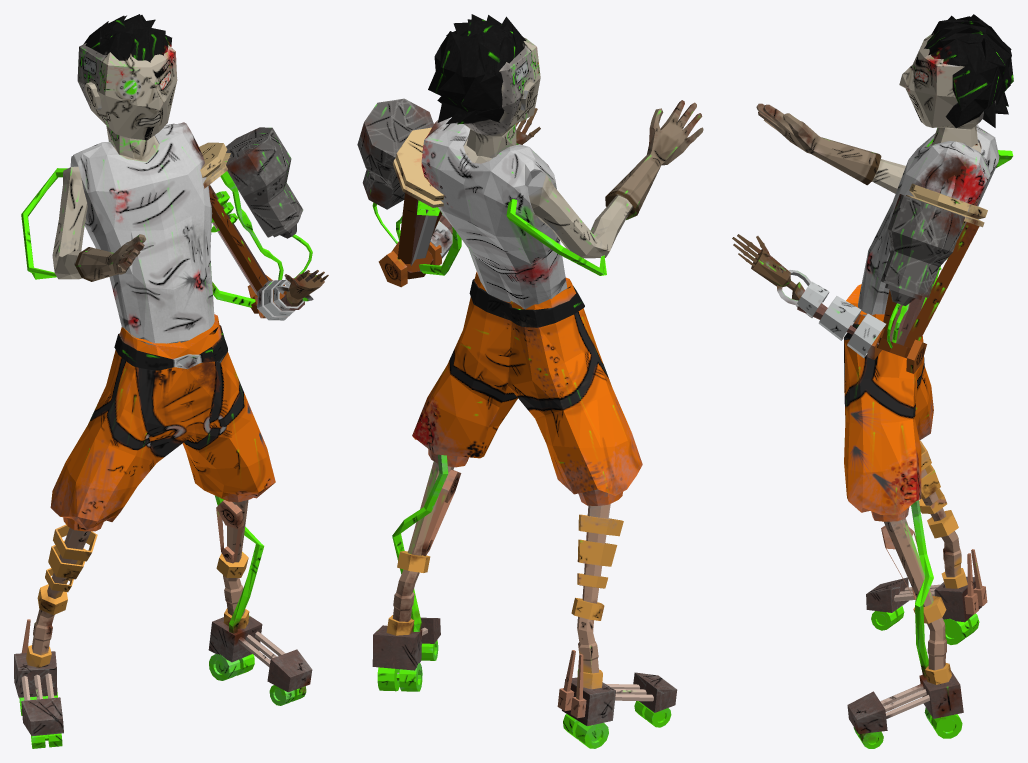
Rendered from CyborgFINALAnimation_000005.obj.
The picture shows the model from 3 angles, left to right: view 1: azimuth 30°, elevation 25°; view 2: azimuth 150°, elevation 25°; view 3: azimuth 270°, elevation 25°; orthographic projection. The views are drawn at different scales.
Visible parts, largest first — view 1: CyborgMesh_Cube.002; view 2: CyborgMesh_Cube.002; view 3: CyborgMesh_Cube.002.
Boxes of the visible parts, x1,y1,x2,y2 form: CyborgMesh_Cube.002: (14, 14, 328, 748); CyborgMesh_Cube.002: (357, 14, 703, 748); CyborgMesh_Cube.002: (732, 14, 1013, 748).
Size of the model in its own units: 4.22 by 9.48 by 3.62.
